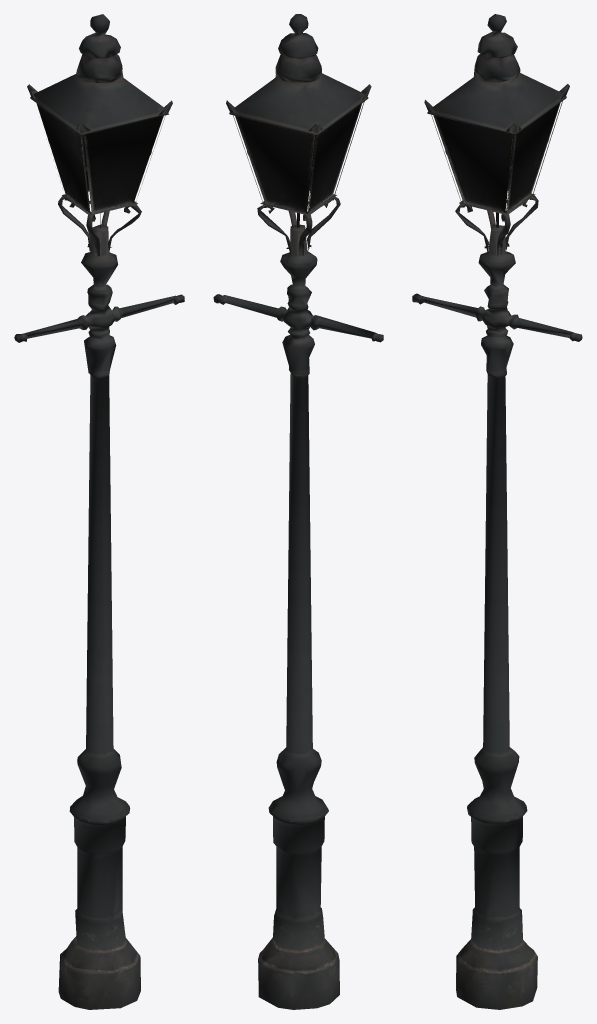
The model's file is lamp.glb.
The picture shows the model from 3 angles, left to right: view 1: azimuth 30°, elevation 25°; view 2: azimuth 150°, elevation 25°; view 3: azimuth 330°, elevation 25°; orthographic projection.
Parts seen in each view (by area): view 1: street_lamp_01; view 2: street_lamp_01; view 3: street_lamp_01.
Part boxes in pixels (<box>): street_lamp_01: <box>14,14,184,1009</box>; street_lamp_01: <box>213,14,383,1009</box>; street_lamp_01: <box>412,14,582,1009</box>.
Size of the model in its own units: 0.7021 by 3.87 by 0.3862.
2 materials, 2 textured.
